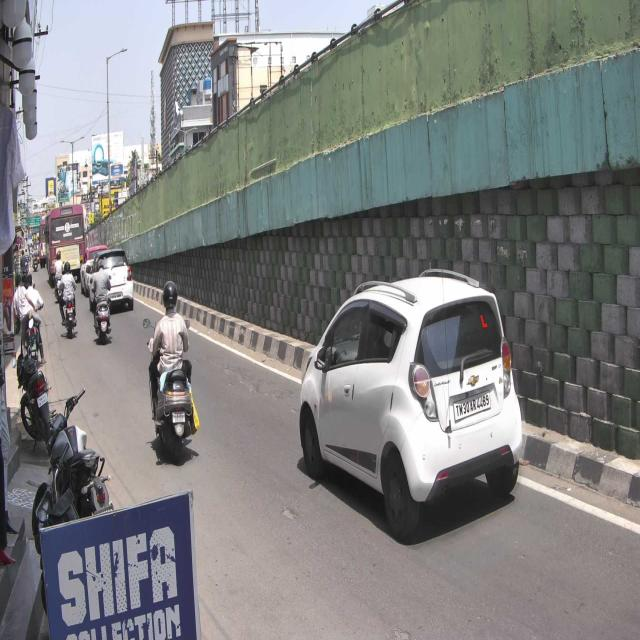single_rider: (143, 281, 200, 462)
